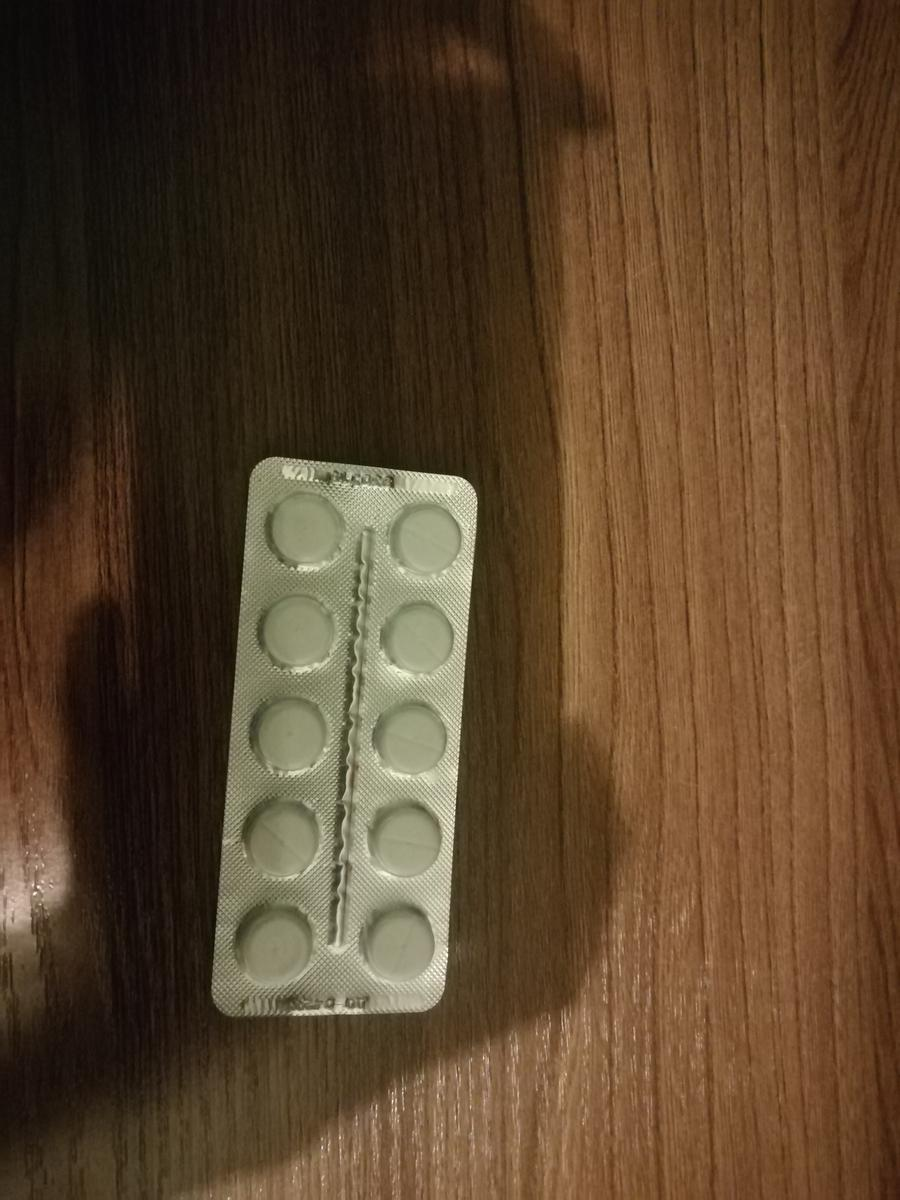tablet: (258, 491, 350, 574), (378, 500, 470, 583), (369, 596, 461, 679), (248, 595, 340, 678), (243, 694, 335, 777), (364, 696, 456, 779), (354, 801, 446, 884), (231, 799, 323, 882), (223, 900, 315, 983), (352, 901, 444, 984)
